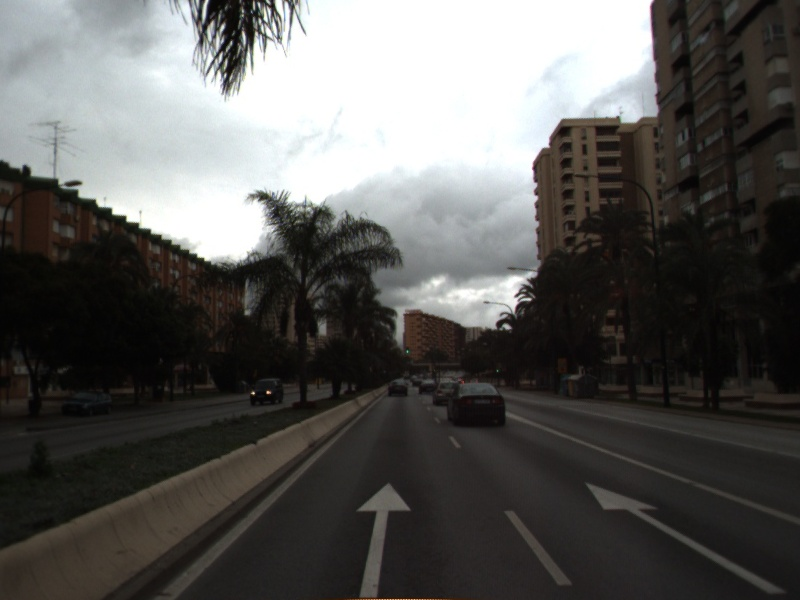STRAIGHT: (583, 479, 791, 596), (351, 478, 415, 600)
